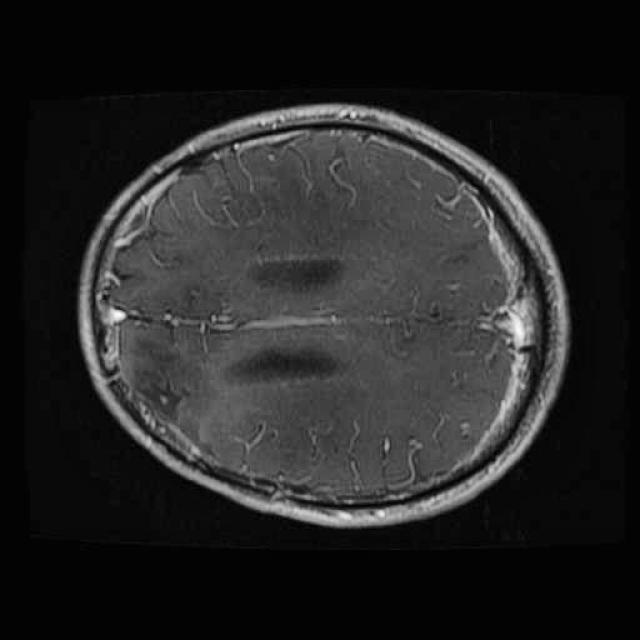Tumor: (116, 299, 219, 443)
